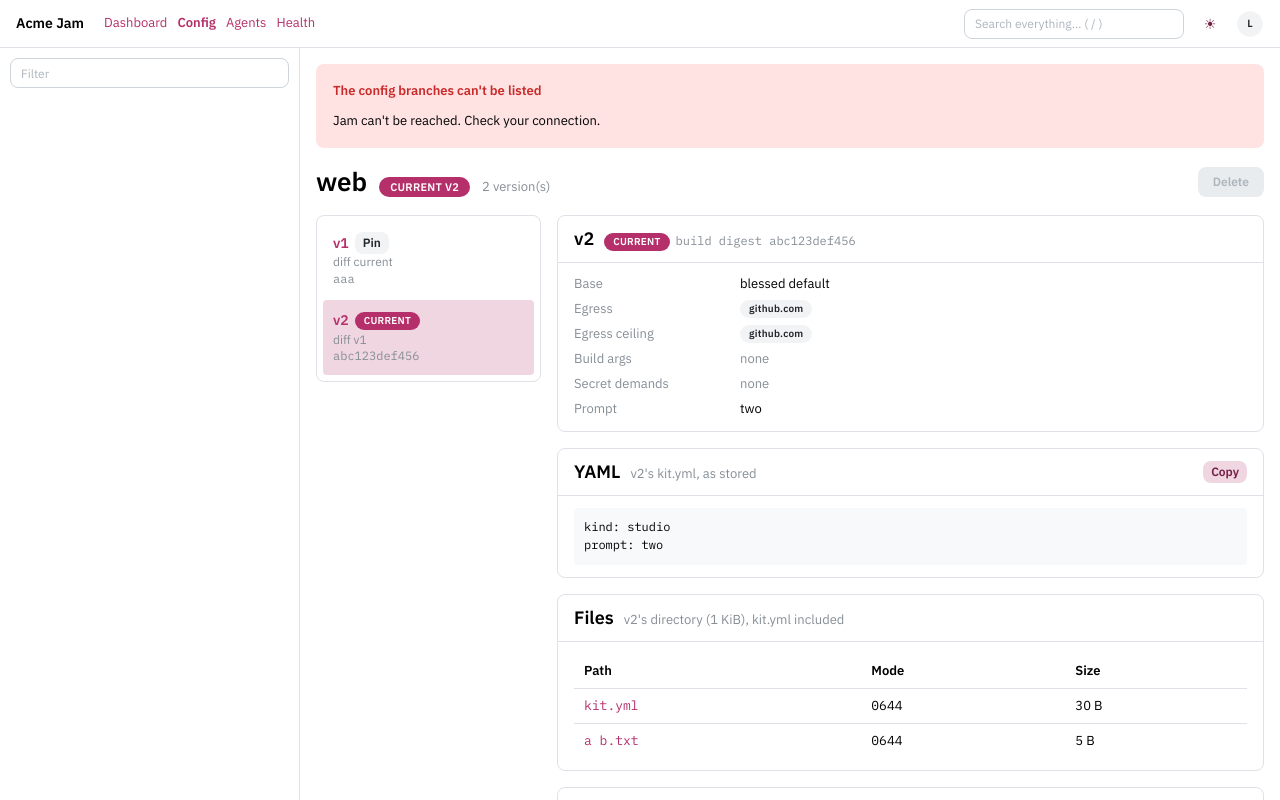
Test case: a kit's page › opens a file whose name has a space
Click the link "a b.txt": (611, 741) [584, 732, 639, 749]
(page scrolled)
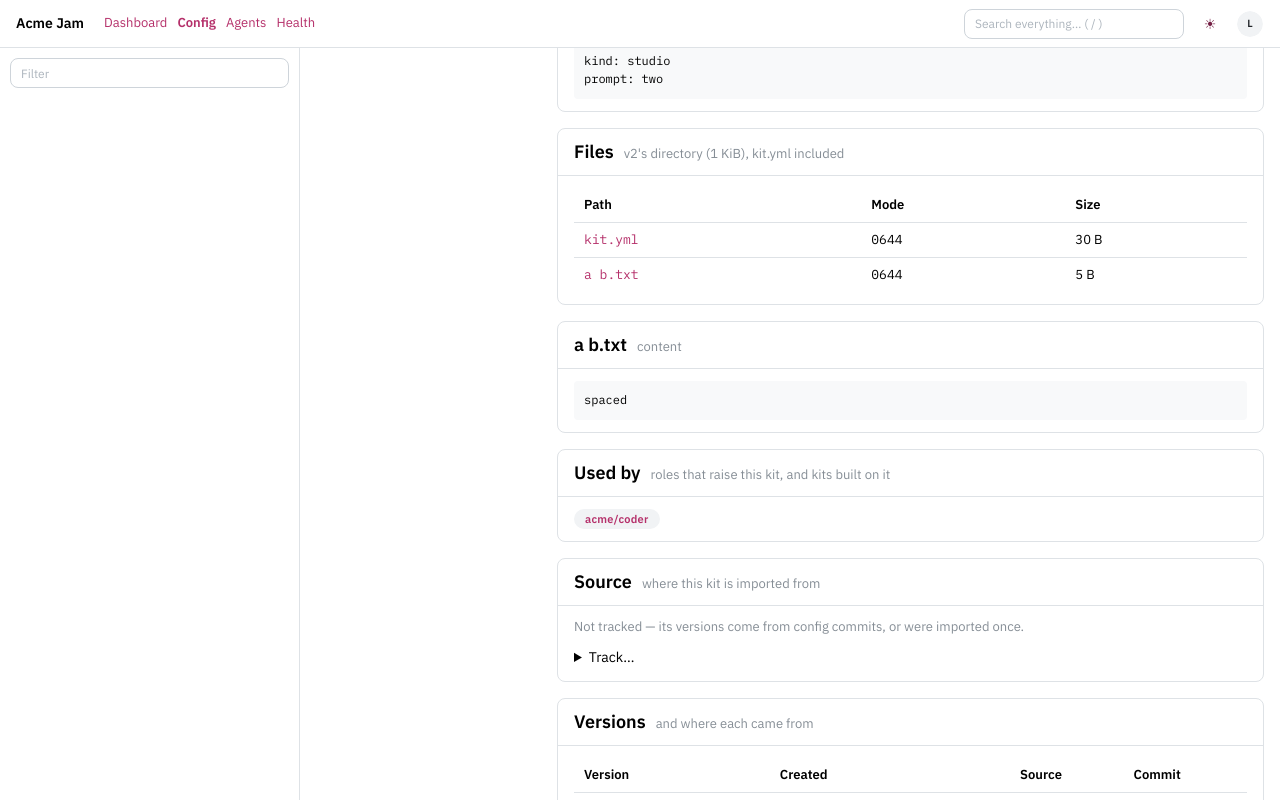
Expected: the link "a b.txt" is shown, [584, 266, 639, 283]
Result: the text "spaced" is shown at [574, 381, 1247, 420]
